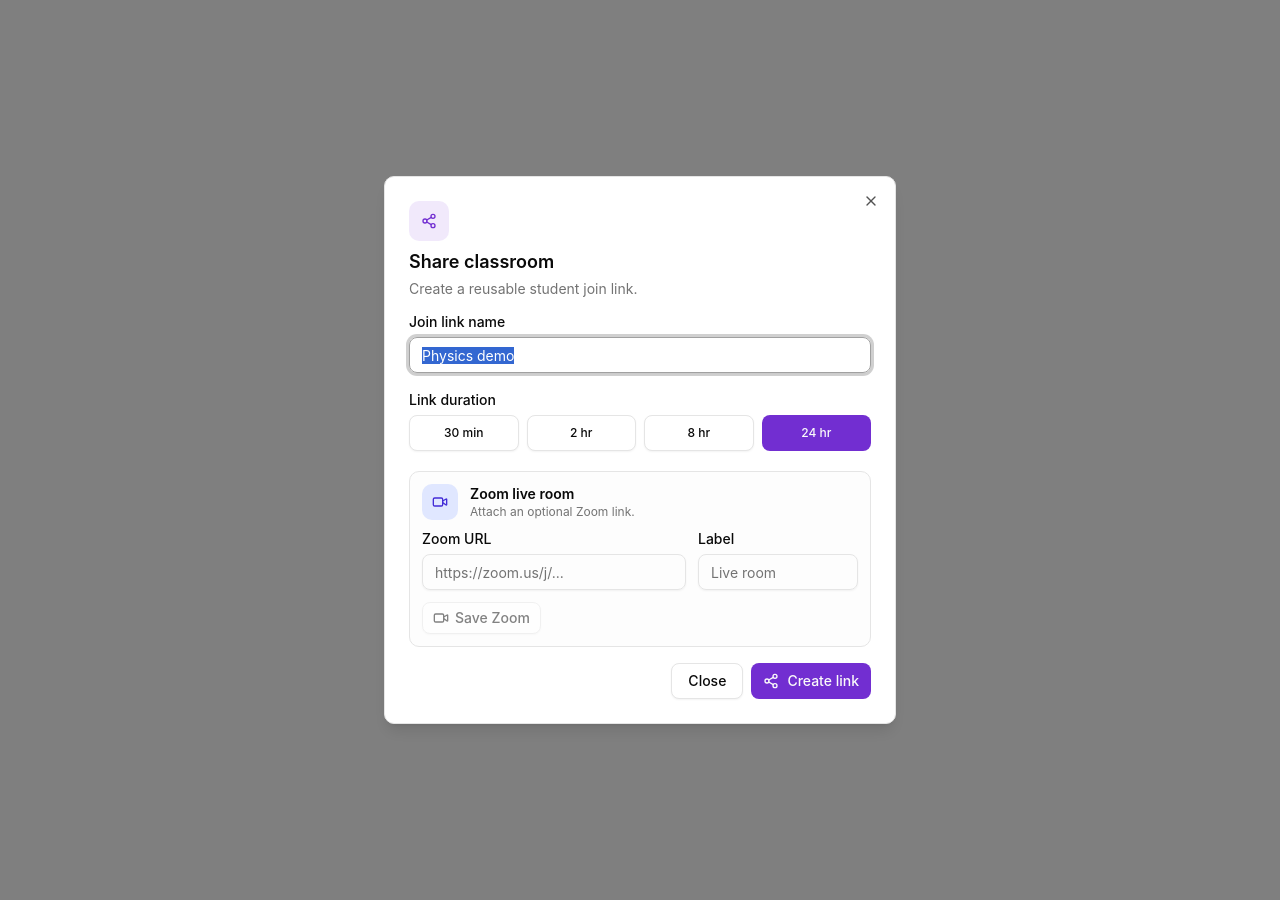
ClassroomShareDialog › creates and copies a 24 hour join link by default
What coordinates should you click on to do the following:
click the button "Create link"
I would click on:
 (811, 681)
Its box is x1=751 y1=663 x2=871 y2=699.
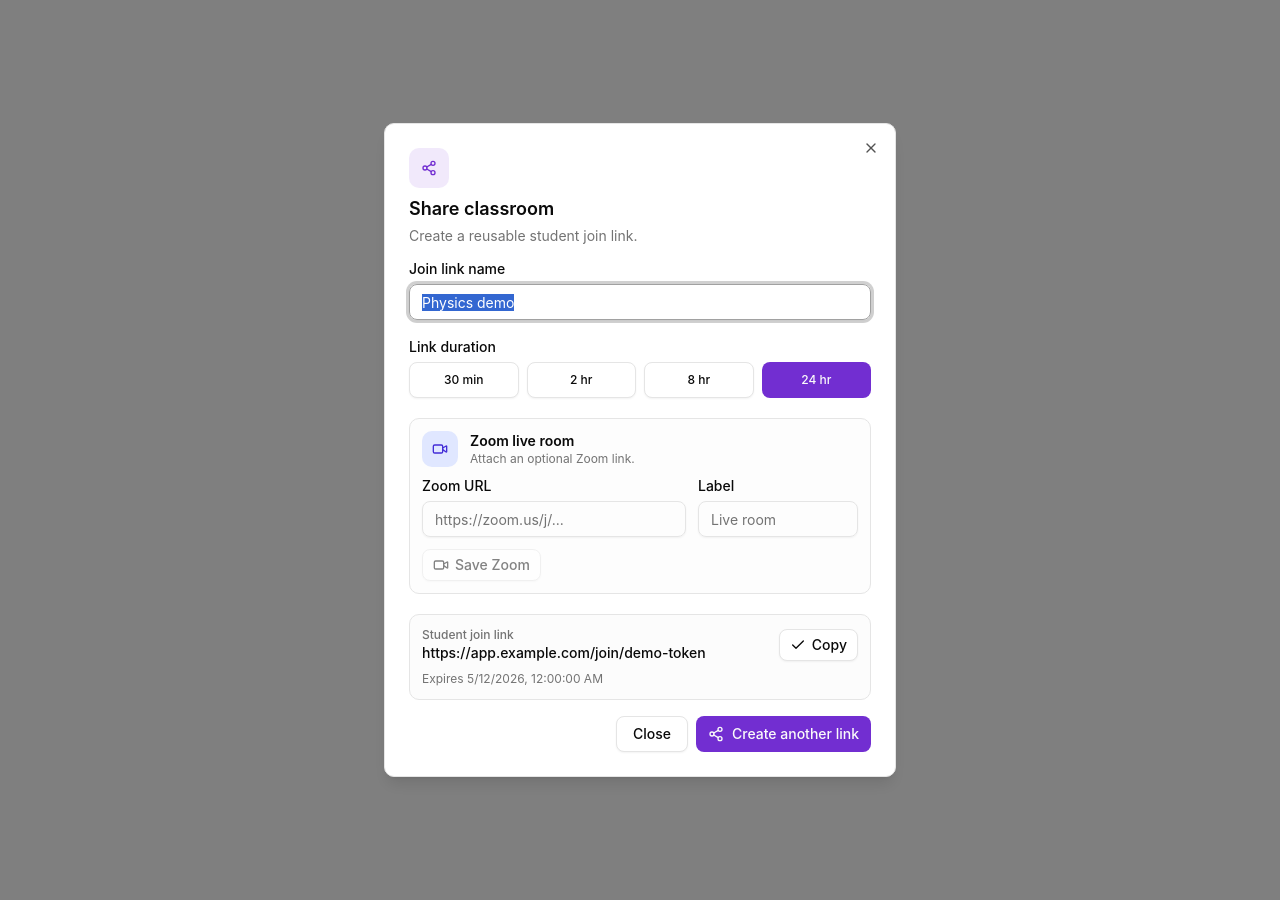
Expected: the text "https://app.example.com/join/demo-token" is shown, x1=422 y1=643 x2=706 y2=663
